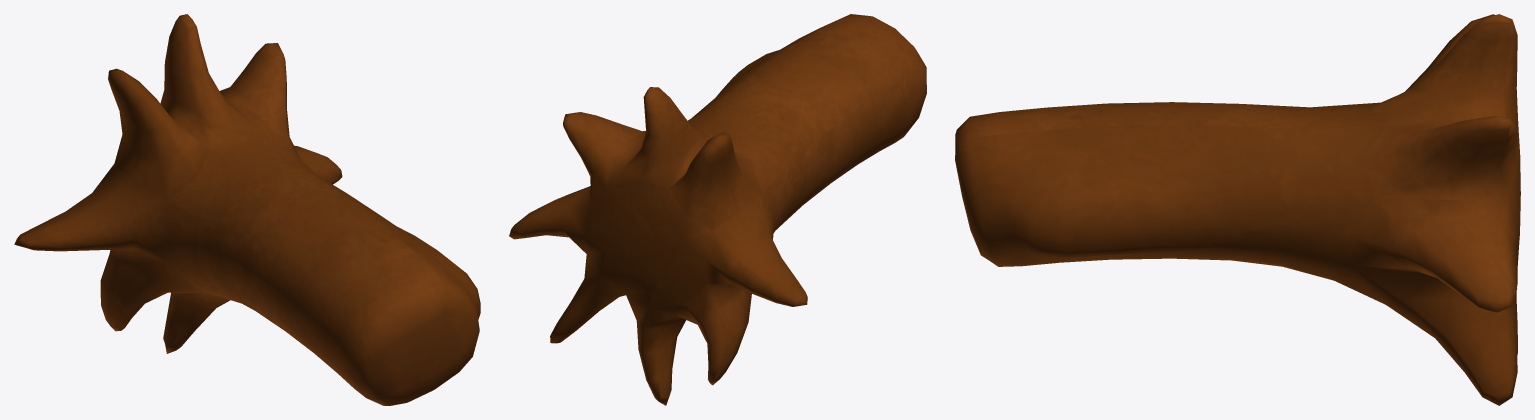
The model's file is tree2.fbx.
3 views of the same model, side by side, from view 1: azimuth 30°, elevation 25°; view 2: azimuth 150°, elevation 25°; view 3: azimuth 270°, elevation 25° (orthographic). The views are drawn at different scales.
Parts seen in each view (by area): view 1: agac_2; view 2: agac_2; view 3: agac_2.
Boxes of the visible parts, x1,y1,x2,y2 form: agac_2: [14, 14, 480, 405]; agac_2: [509, 14, 926, 405]; agac_2: [955, 14, 1520, 405].
Bounding box in the file's own units: 136 × 136 × 186.
